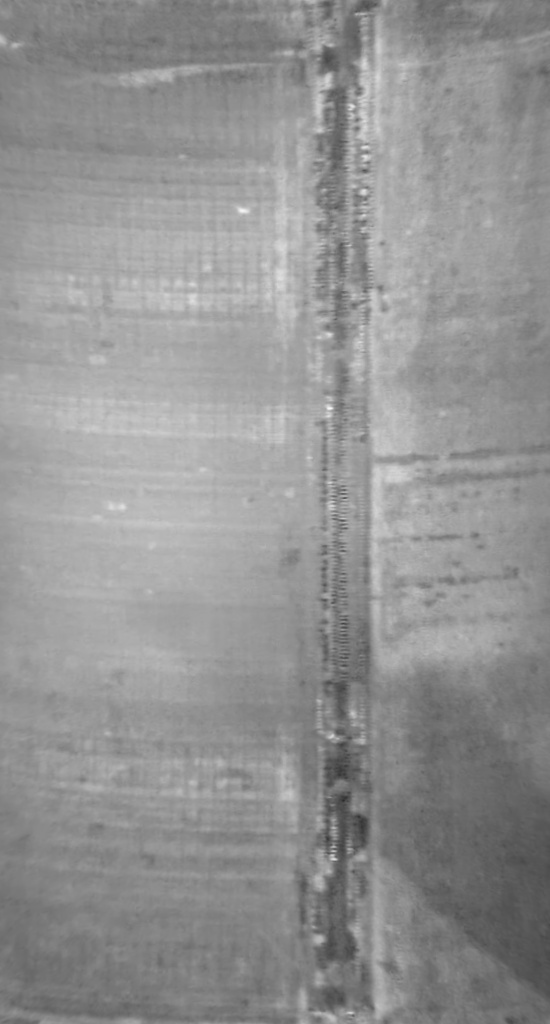splice: (294, 1, 391, 1020)
